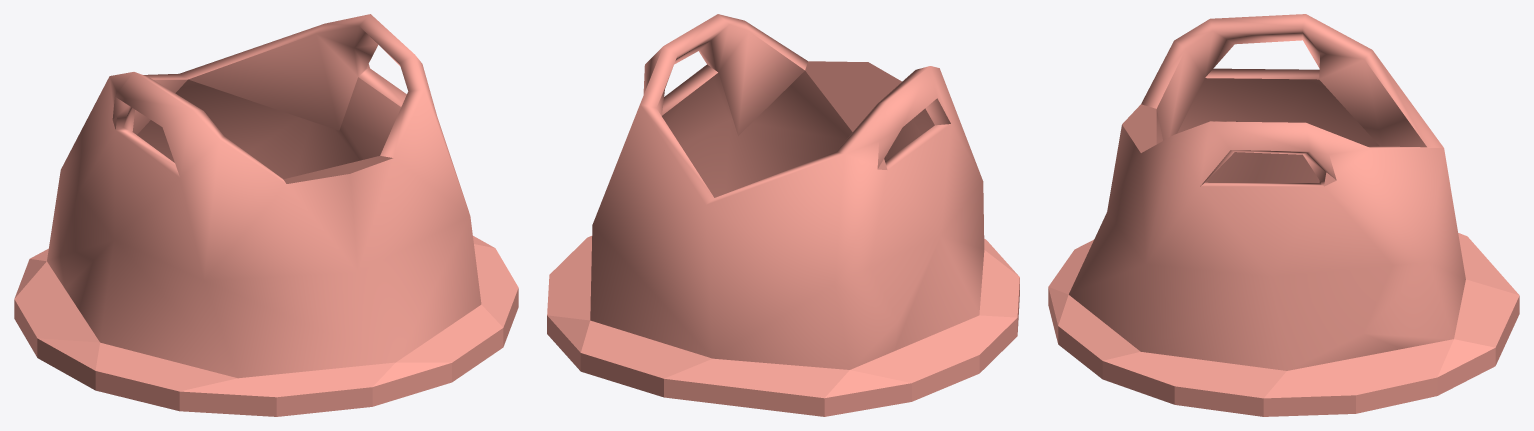
File: Tutu.gltf
3 renders of one model, left to right at view 1: azimuth 30°, elevation 25°; view 2: azimuth 150°, elevation 25°; view 3: azimuth 270°, elevation 25°, orthographic. The views are drawn at different scales.
Parts seen in each view (by area): view 1: dress; view 2: dress; view 3: dress.
Part boxes in pixels (bbox=[...]): dress: bbox=[14, 14, 518, 416]; dress: bbox=[547, 14, 1019, 416]; dress: bbox=[1048, 14, 1519, 416].
Size of the model in its own units: 0.563 by 0.3279 by 0.5604.
Materials: 1 (1 with a texture image).
